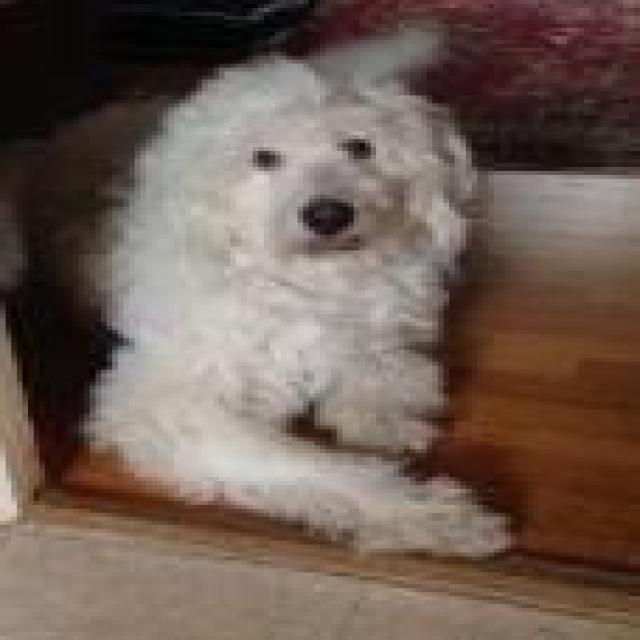Perro: (11, 12, 528, 568)
